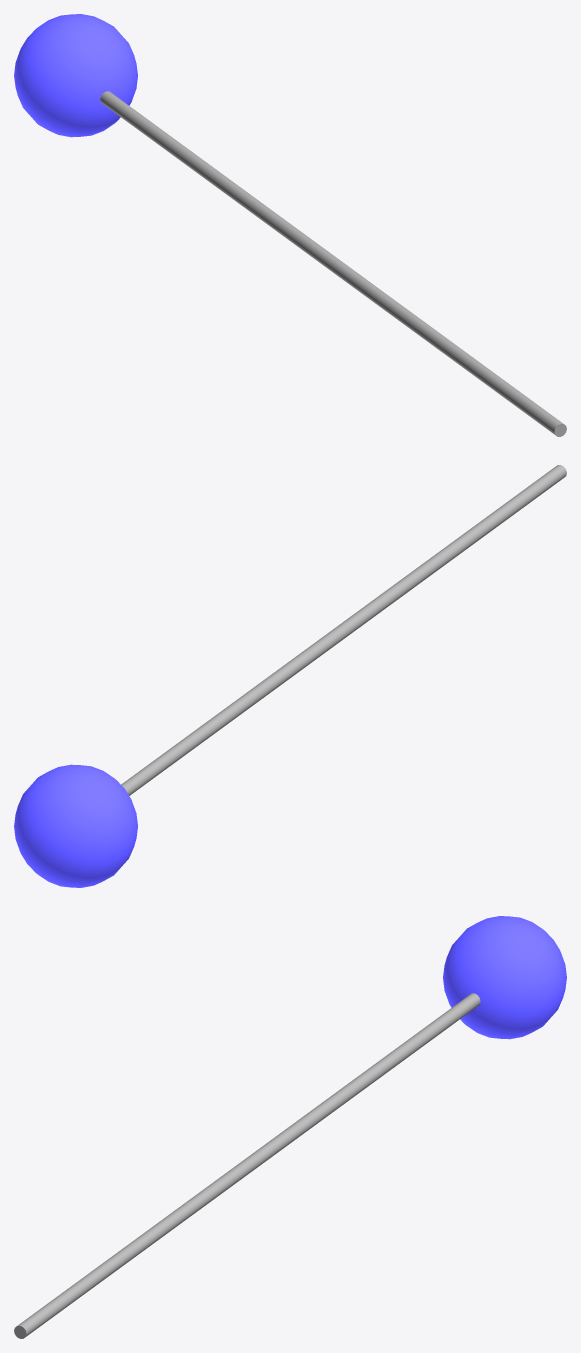
The model's file is Drumsticks.fbx.
The picture shows the model from 3 angles, top to bottom: view 1: azimuth 30°, elevation 25°; view 2: azimuth 150°, elevation 25°; view 3: azimuth 330°, elevation 25°; orthographic projection.
Parts seen in each view (by area): view 1: StickTip, StickHandle; view 2: StickTip, StickHandle; view 3: StickTip, StickHandle.
Boxes of the visible parts, box(x1,y1,x2,y2) form: StickTip: box(14, 14, 137, 137); StickHandle: box(100, 91, 566, 436); StickTip: box(14, 764, 137, 887); StickHandle: box(121, 465, 566, 795); StickTip: box(443, 916, 566, 1039); StickHandle: box(14, 993, 480, 1338).
Bounding box in the file's own units: 25.6 × 25.6 × 213.
